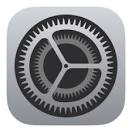settings: (4, 5, 129, 129)
